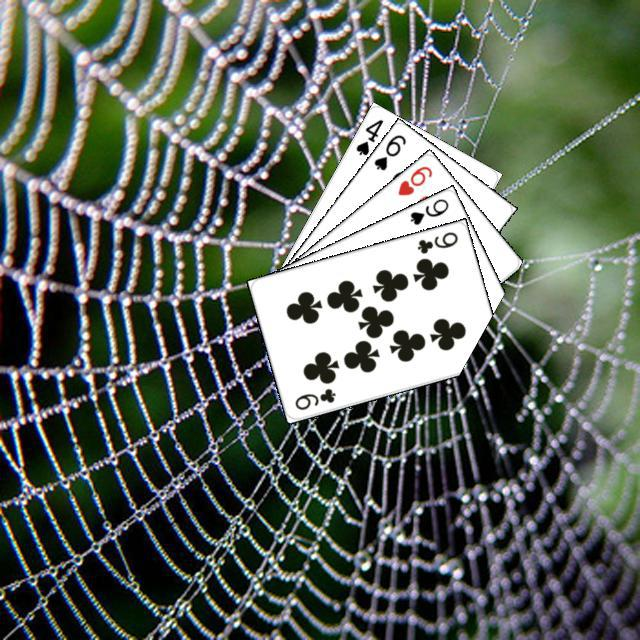4s: (351, 114, 385, 157)
6h: (393, 161, 434, 197)
6s: (369, 130, 408, 172)
9c: (290, 383, 337, 412), (412, 227, 460, 255)
9s: (405, 193, 450, 227)
